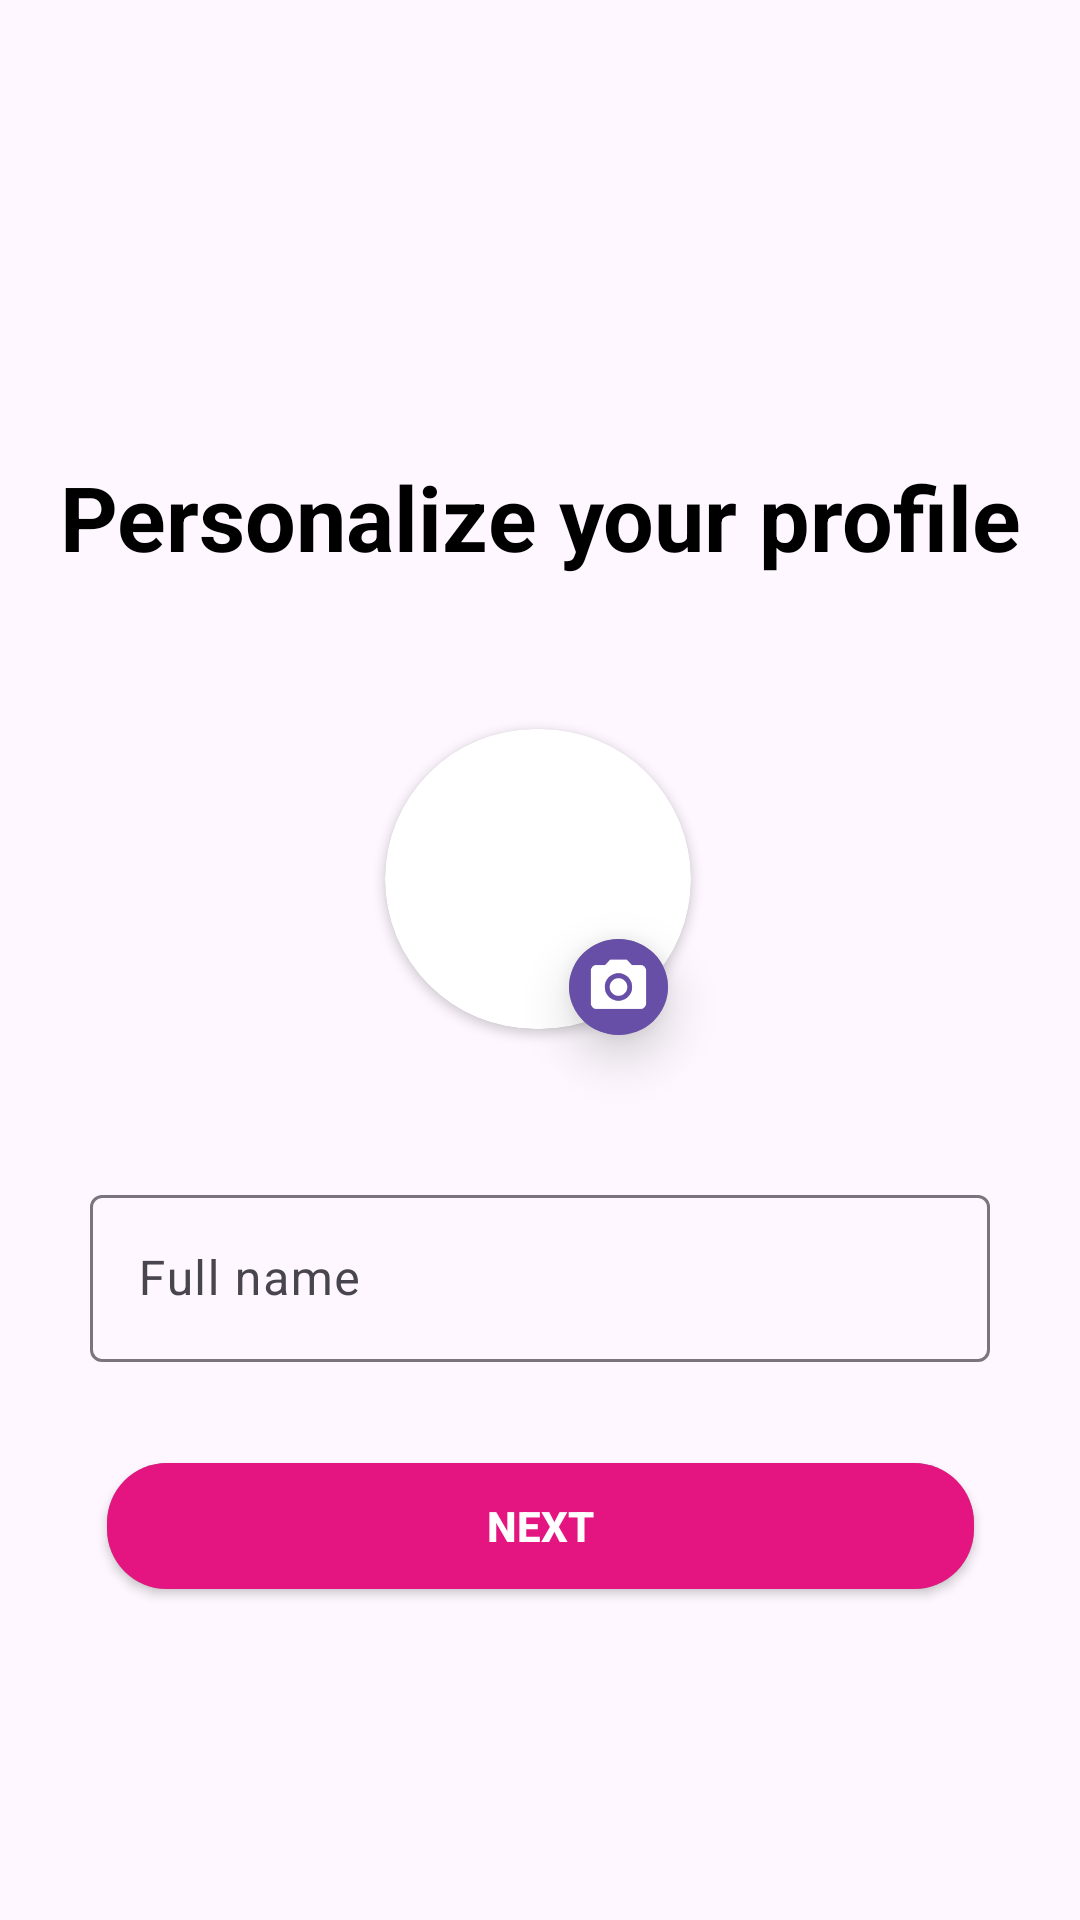

Named icons in this screenshot (1080x1920) and their bounding boxes, [x1, y1, x2, y2]:
photo camera: [569, 939, 668, 1035]
